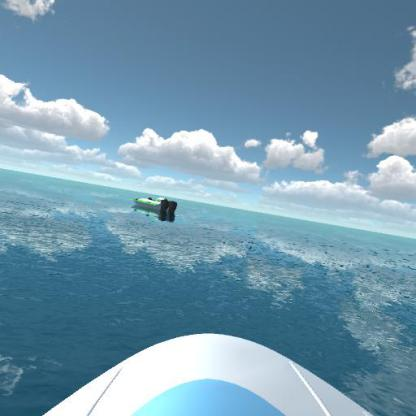usv0: (130, 192, 182, 224)
